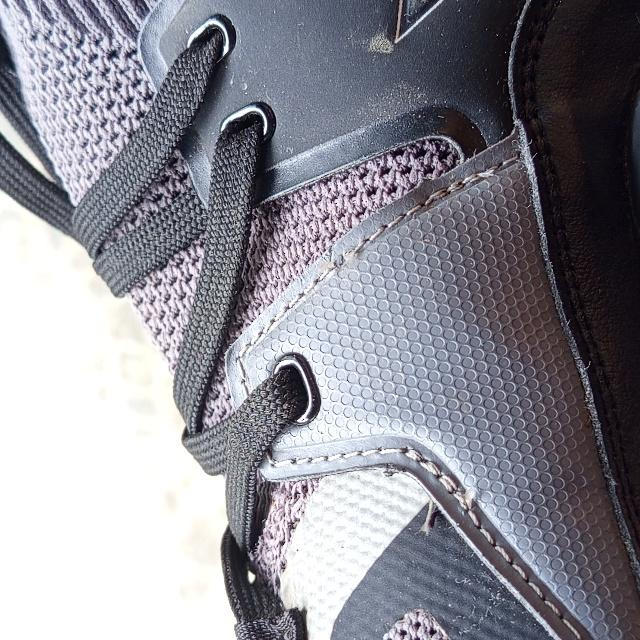broken: (318, 250, 378, 282)
